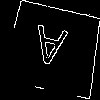A: (27, 24, 68, 77)
